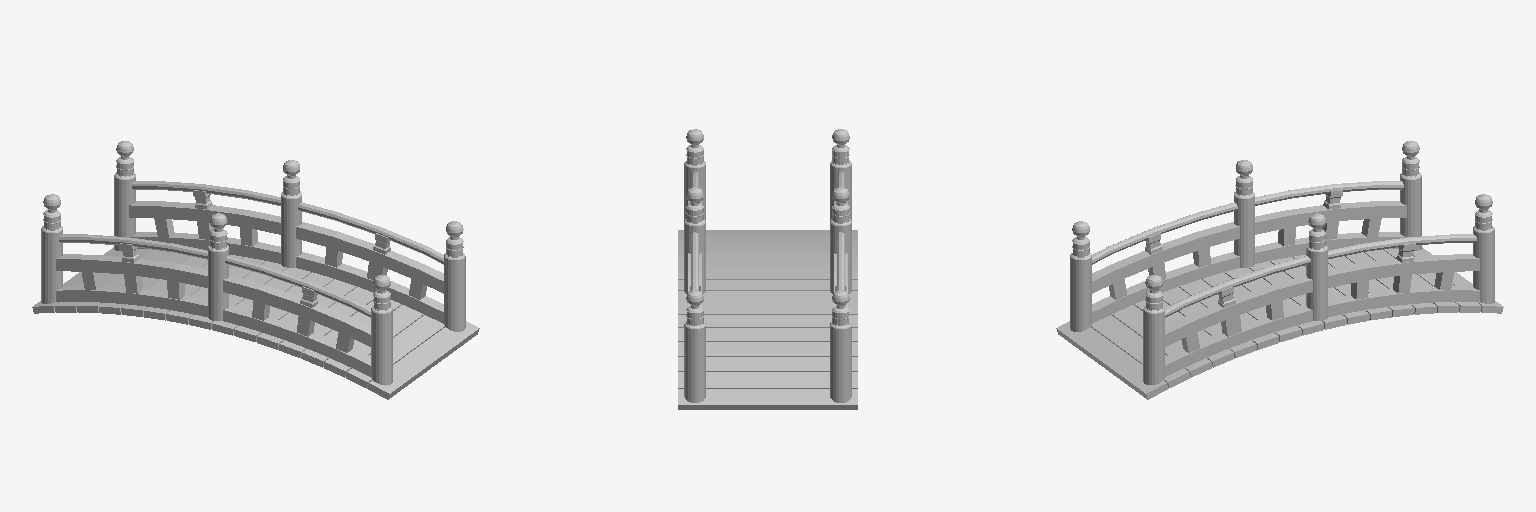
The model's file is bridge.obj.
3 renders of one model, left to right at view 1: azimuth 30°, elevation 25°; view 2: azimuth 150°, elevation 25°; view 3: azimuth 270°, elevation 25°, orthographic.
Parts seen in each view (by area): view 1: SM_Bridge; view 2: SM_Bridge; view 3: SM_Bridge.
Boxes of the visible parts, x1=… form: SM_Bridge: x1=32, y1=141, x2=479, y2=399; SM_Bridge: x1=678, y1=129, x2=857, y2=409; SM_Bridge: x1=1056, y1=141, x2=1503, y2=399.
Bounding box in the file's own units: 0.2732 × 0.1132 × 0.3376.